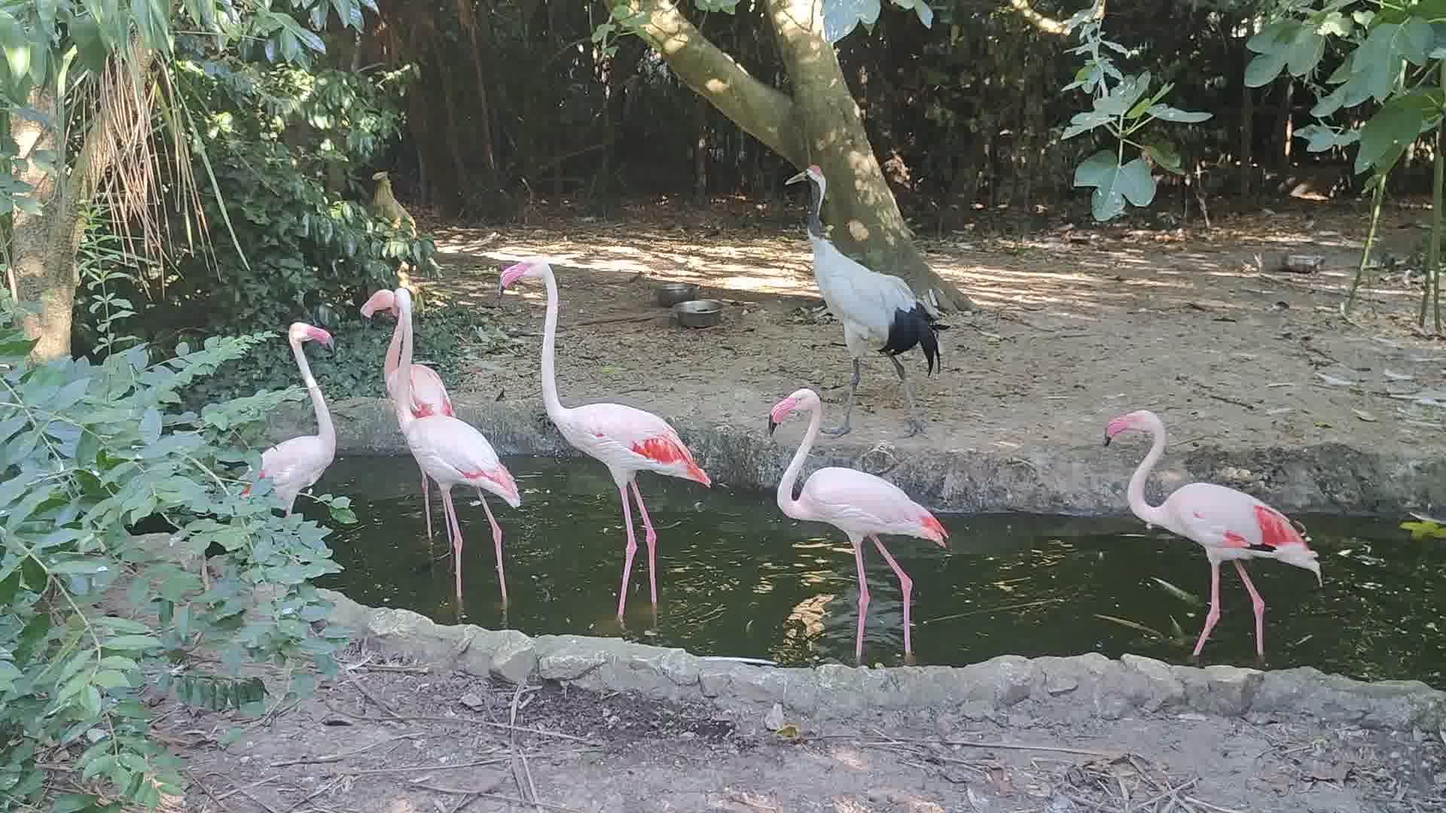apple: (498, 257, 711, 619), (1103, 410, 1323, 657), (768, 389, 949, 657), (784, 165, 951, 439), (392, 288, 521, 597), (360, 289, 456, 559), (237, 321, 337, 517)
